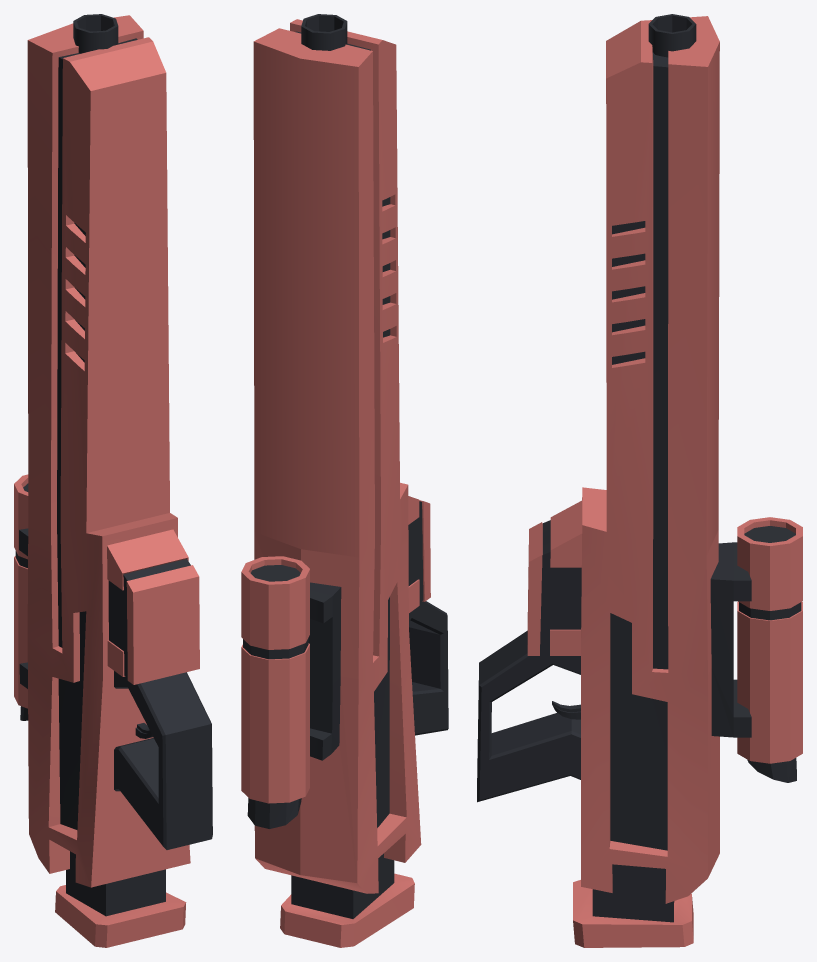
The model's file is low poly scifi gun032.fbx.
The picture shows the model from 3 angles, left to right: view 1: azimuth 30°, elevation 25°; view 2: azimuth 150°, elevation 25°; view 3: azimuth 270°, elevation 25°; orthographic projection. The views are drawn at different scales.
Parts seen in each view (by area): view 1: low poly scifi gun032; view 2: low poly scifi gun032; view 3: low poly scifi gun032.
Part boxes in pixels (bbox=[...]): low poly scifi gun032: bbox=[14, 14, 212, 947]; low poly scifi gun032: bbox=[241, 14, 448, 947]; low poly scifi gun032: bbox=[477, 14, 802, 947].
Bounding box in the file's own units: 3.2 × 26.48 × 8.64.
